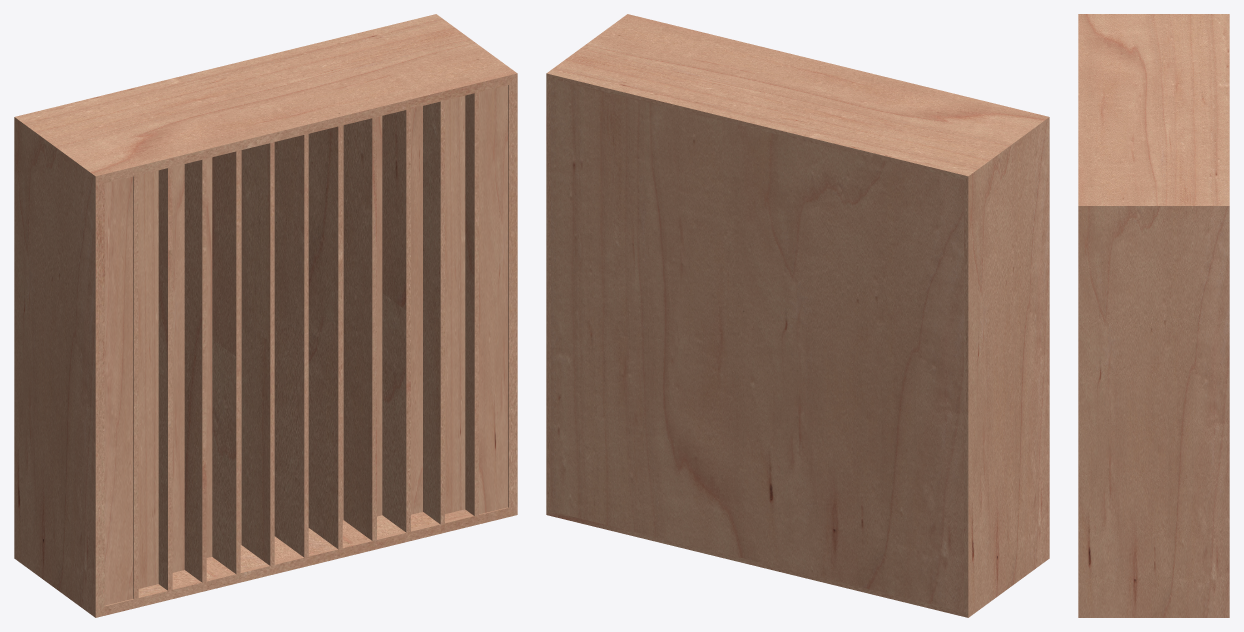
File: RQS450.glb
The picture shows the model from 3 angles, left to right: view 1: azimuth 30°, elevation 25°; view 2: azimuth 150°, elevation 25°; view 3: azimuth 270°, elevation 25°; orthographic projection. The views are drawn at different scales.
Parts seen in each view (by area): view 1: welltop9; view 2: welltop9; view 3: welltop9.
Part boxes in pixels (left/top/right/bottom): welltop9: left=14, top=14, right=517, bottom=617; welltop9: left=546, top=14, right=1049, bottom=617; welltop9: left=1078, top=14, right=1229, bottom=617.
Bounding box in the file's own units: 23.62 × 23.62 × 7.88.
Materials: 1 (1 with a texture image).
